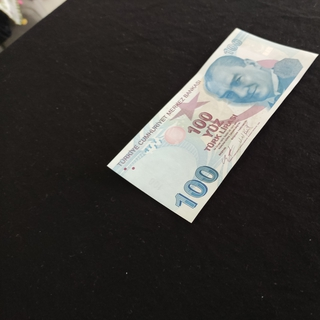100TLFront: (105, 26, 320, 224)
